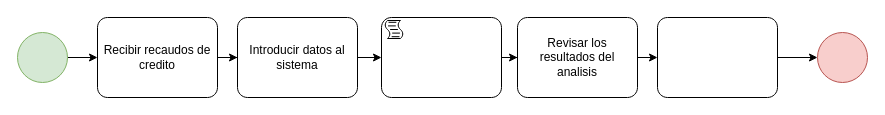
Some shapes in this 885 by 115 pixel diagram are drawn without their labels. The centre of each missing label's shape, as x and y in pixels:
"Devolver respuesta por correo" goes at point (717, 57).
"Ejecutar script en sistema de analisis" goes at point (441, 57).
